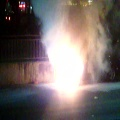fire: (50, 39, 84, 96)
